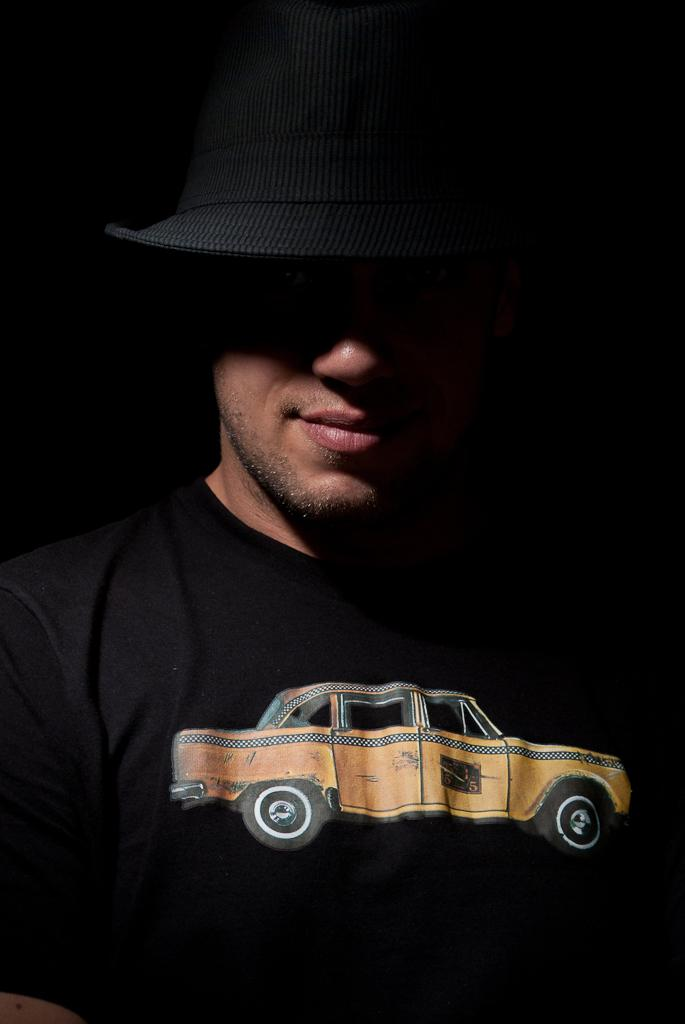Hat: (104, 0, 512, 273)
